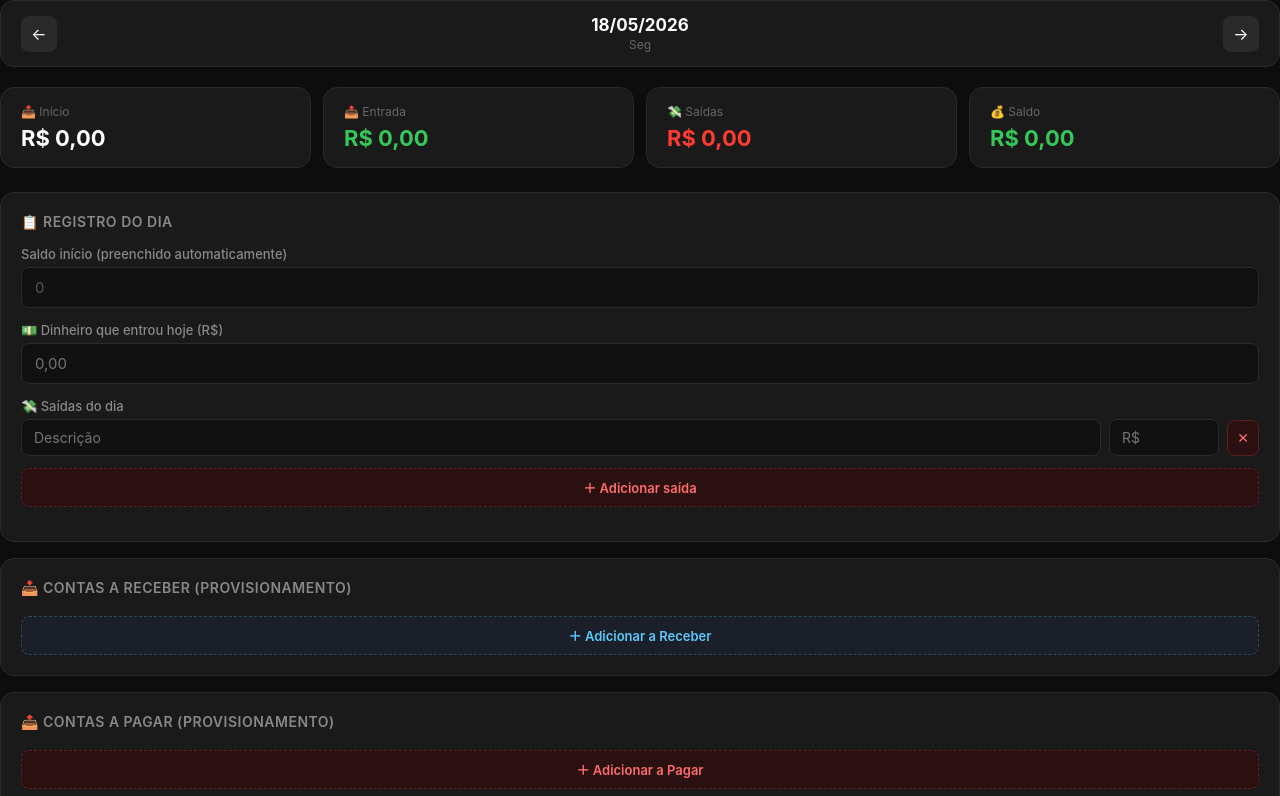
Test: adiciona nova linha de saída ao clicar em Adicionar saída
Click the button "＋ Adicionar saída".
click(640, 488)  # box left=21, top=468, right=1259, bottom=507
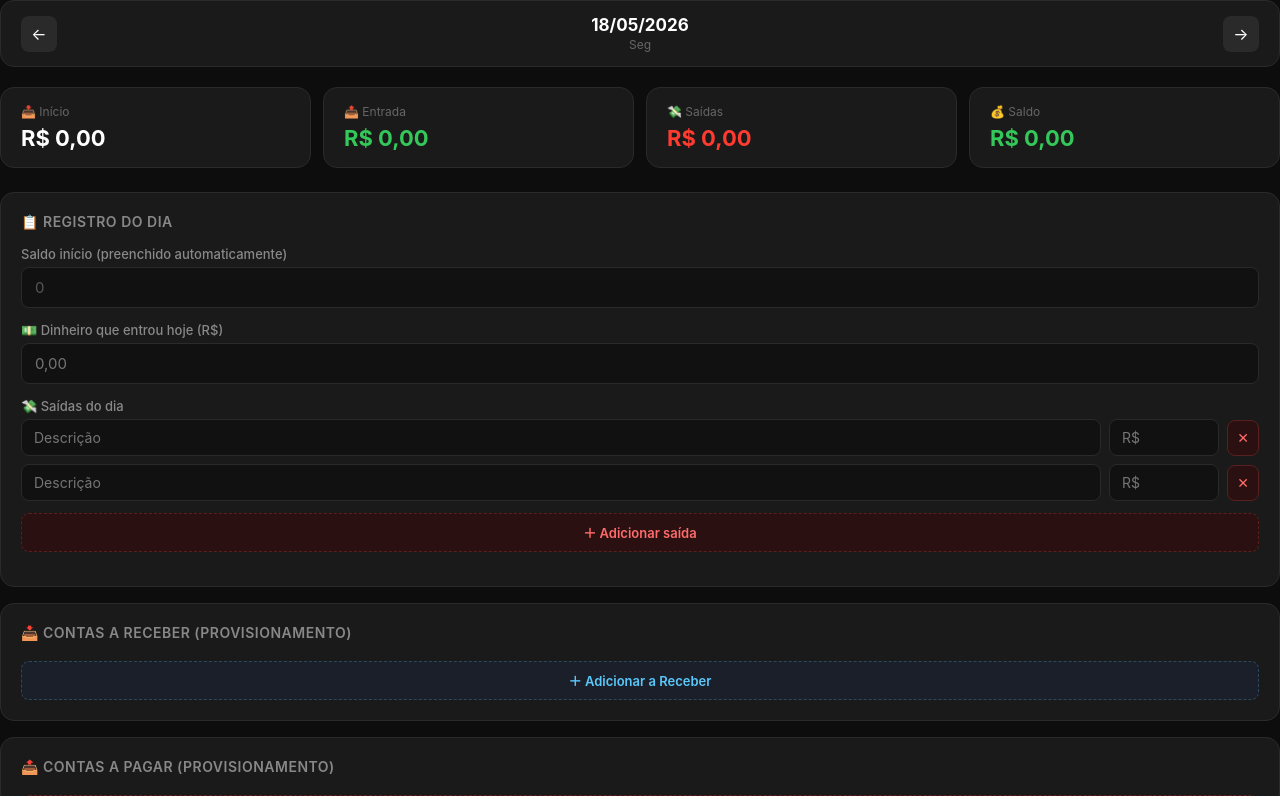
Expected: the number of fields with placeholder "Descrição" is 2, left=21, top=419, right=1101, bottom=456; left=21, top=464, right=1101, bottom=501
